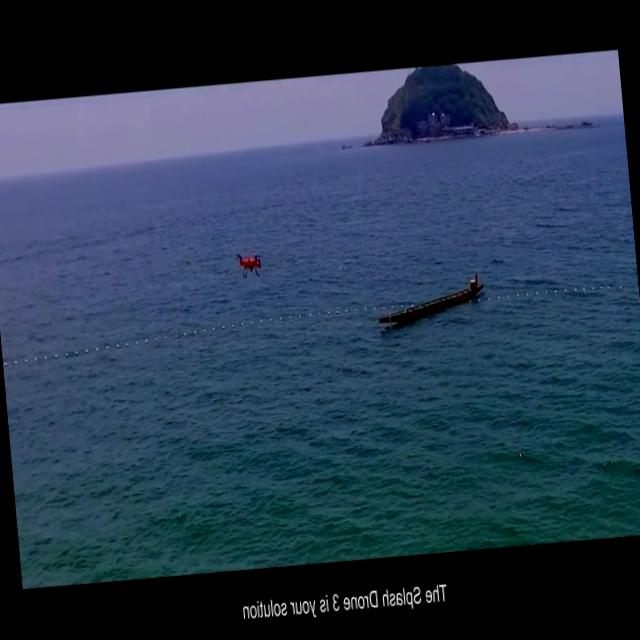drone: (236, 249, 264, 282)
